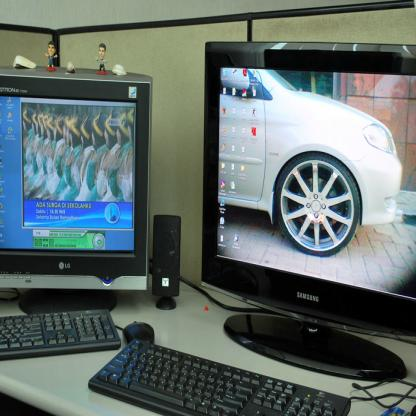Car: (216, 69, 408, 253)
